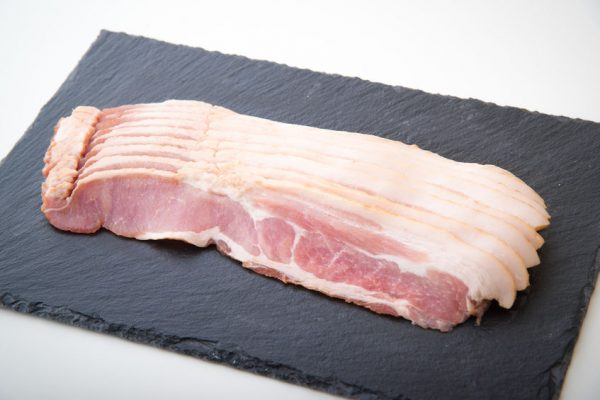bacon: (23, 82, 550, 331)
